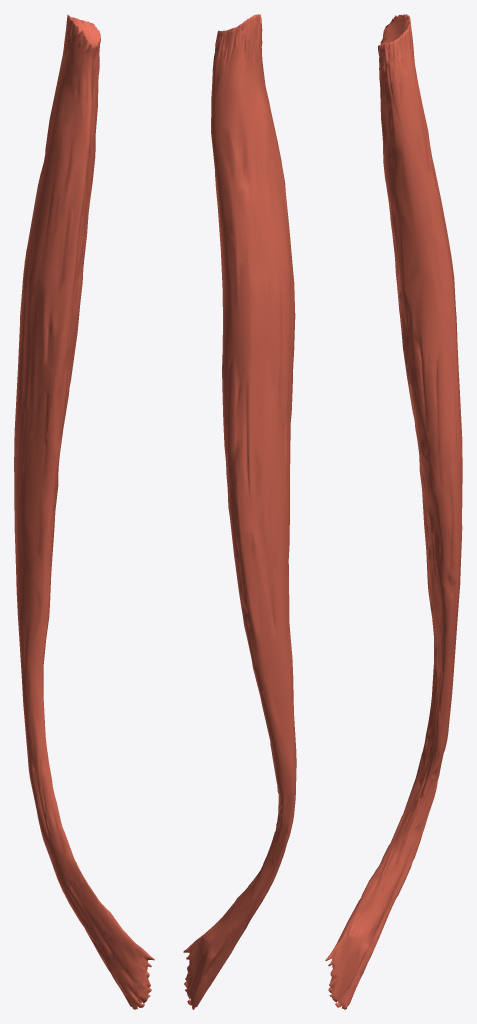
File: semitendinosus.glb
3 views of the same model, side by side, from view 1: azimuth 90°, elevation 25°; view 2: azimuth 210°, elevation 25°; view 3: azimuth 270°, elevation 25° (orthographic). The views are drawn at different scales.
Visible parts, largest first — view 1: Semitendinosus muscle.l; view 2: Semitendinosus muscle.l; view 3: Semitendinosus muscle.l.
Part boxes in pixels (bbox=[...]): Semitendinosus muscle.l: bbox=[14, 14, 154, 1009]; Semitendinosus muscle.l: bbox=[183, 14, 296, 1009]; Semitendinosus muscle.l: bbox=[325, 14, 462, 1009].
Bounding box in the file's own units: 0.036 × 0.46 × 0.0583.
